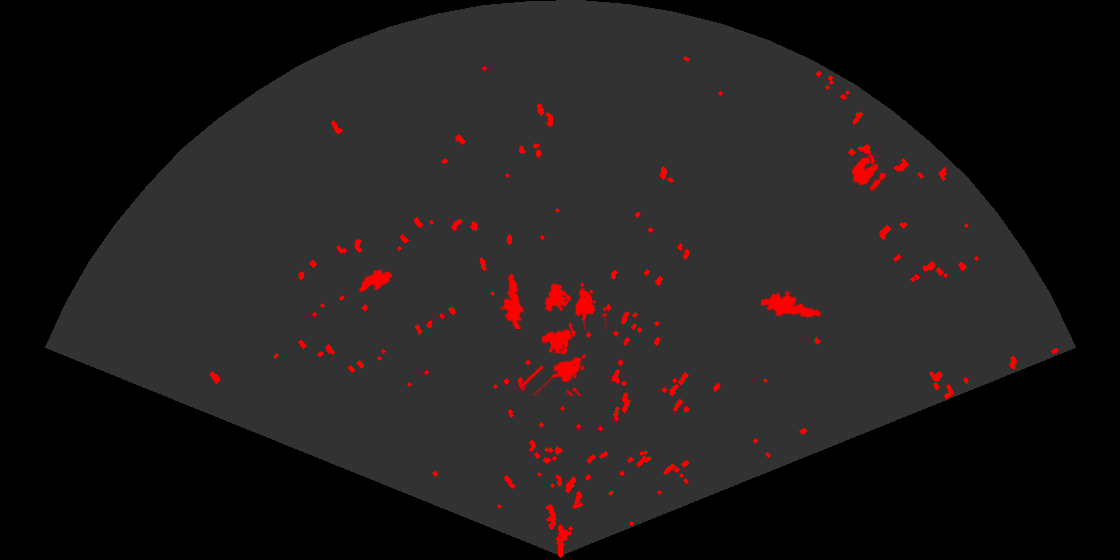AUV: (357, 268, 394, 294)
ball: (850, 155, 888, 193)
cage: (521, 328, 588, 396), (543, 281, 607, 330)
frogman: (761, 289, 822, 319), (499, 271, 526, 329)
